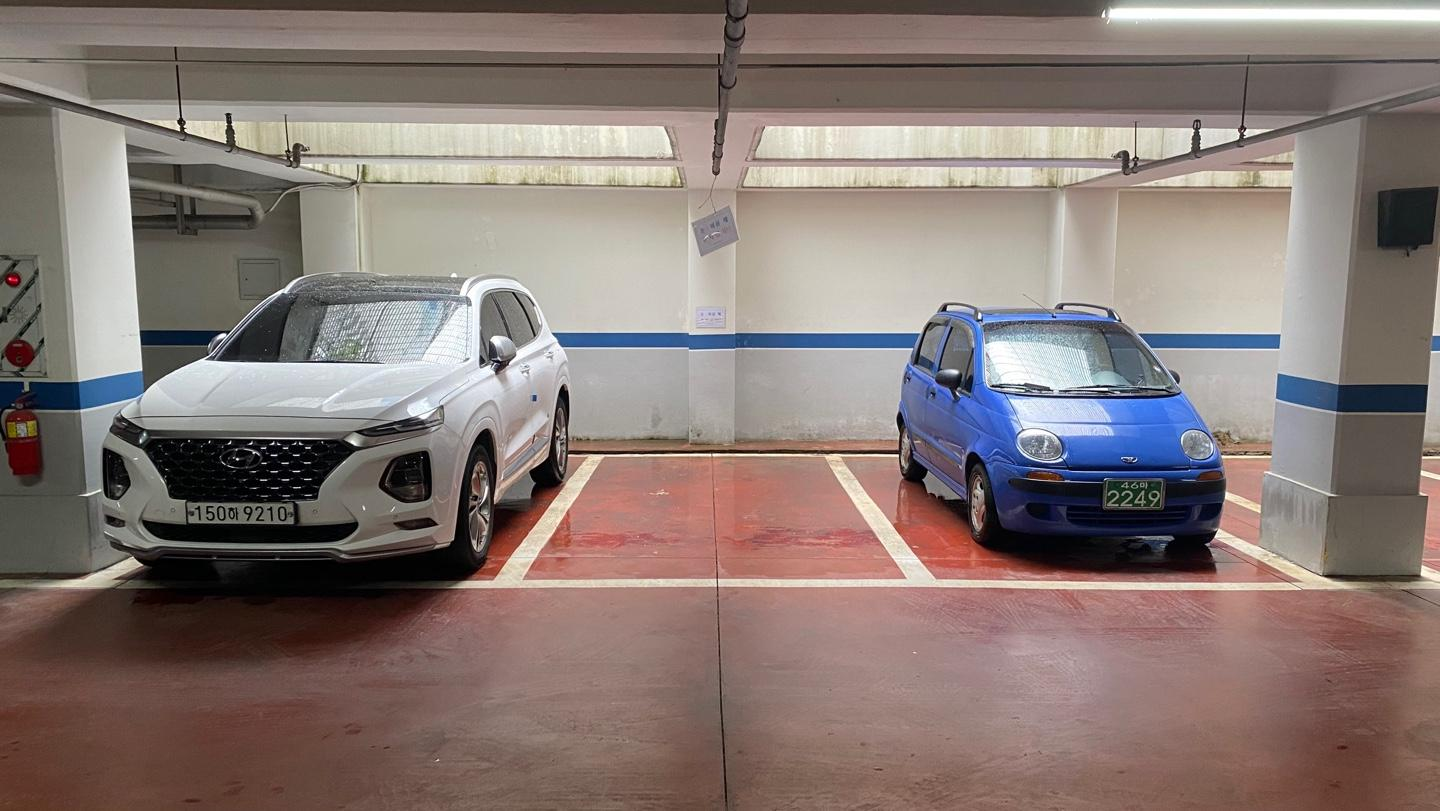empty: (492, 450, 939, 587)
occupied: (100, 269, 524, 568), (904, 300, 1223, 559)
